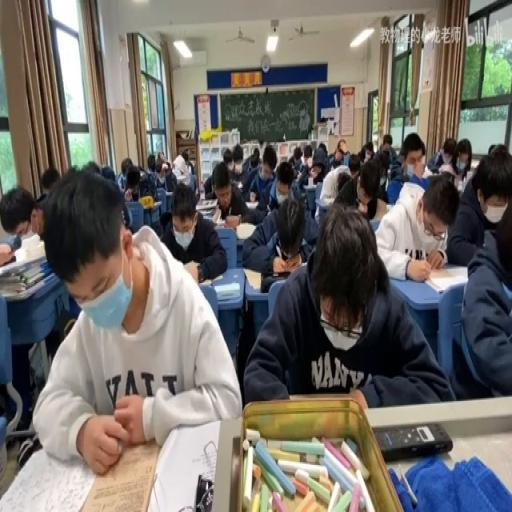calculator: (149, 415, 222, 511), (0, 442, 100, 509), (1, 252, 54, 298), (425, 263, 469, 293), (214, 282, 240, 300), (302, 181, 317, 212), (242, 266, 262, 289), (235, 222, 257, 240), (314, 195, 330, 219), (198, 272, 224, 286), (1, 232, 19, 249), (194, 199, 216, 212), (462, 166, 476, 185), (164, 189, 174, 212), (212, 205, 222, 222), (174, 169, 188, 181), (244, 199, 259, 209), (385, 202, 394, 213), (307, 176, 314, 188), (150, 199, 162, 206)
paper: (242, 205, 448, 411), (446, 148, 512, 277), (161, 179, 227, 283), (86, 165, 132, 237), (386, 134, 428, 203), (261, 152, 303, 212), (1, 184, 43, 243), (424, 135, 458, 179), (236, 145, 262, 193), (204, 150, 230, 196), (366, 151, 389, 202), (302, 144, 329, 186), (150, 154, 176, 194), (333, 171, 358, 206), (124, 166, 142, 202), (326, 140, 347, 170), (40, 165, 60, 195), (347, 154, 362, 179), (362, 196, 377, 219), (180, 150, 192, 174), (100, 164, 116, 180), (490, 142, 508, 156), (358, 145, 370, 165), (292, 145, 302, 169), (458, 148, 470, 166), (382, 134, 392, 154), (232, 145, 242, 165), (83, 161, 97, 175), (116, 172, 126, 191), (395, 148, 405, 165), (121, 158, 132, 173), (146, 154, 155, 172), (254, 155, 262, 169), (222, 155, 232, 165), (157, 156, 163, 170), (165, 160, 172, 170), (140, 168, 146, 179)
person: (374, 420, 451, 460), (0, 252, 15, 266), (272, 268, 291, 278)
